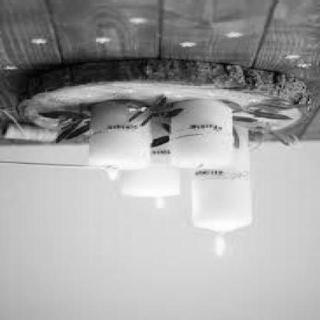Fire: (104, 168, 124, 182)
